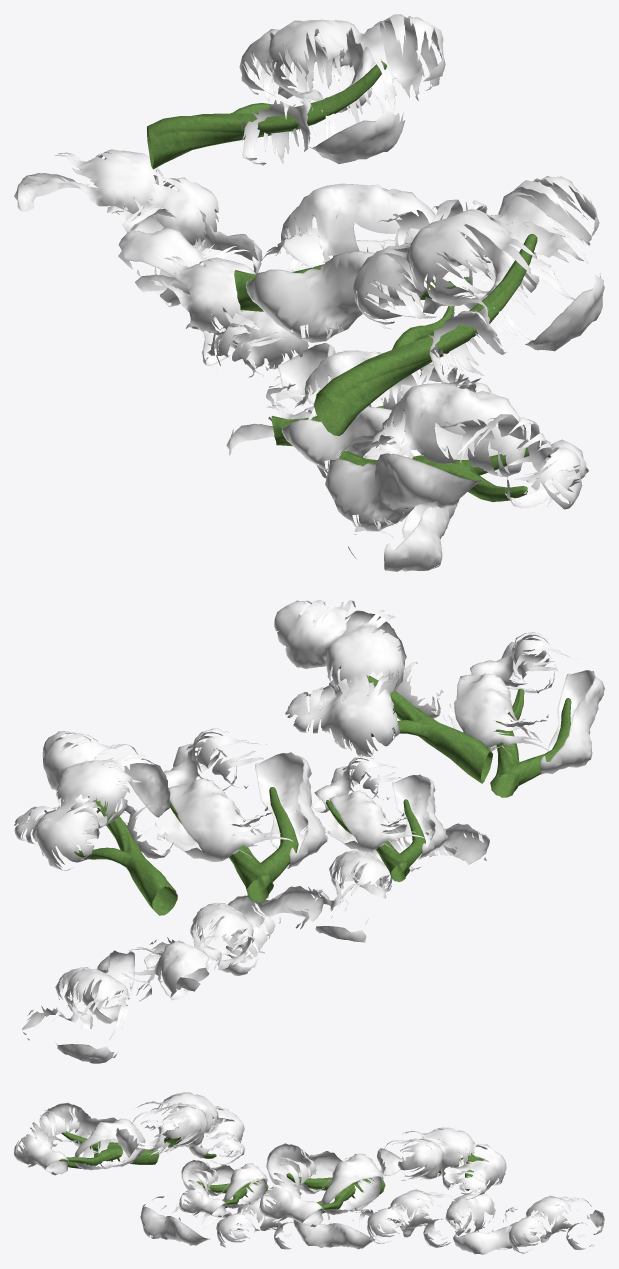
File: SM_ENV_KNFRST_DistanceLeaf_GroupB.FBX
3 renders of one model, top to bottom at view 1: azimuth 30°, elevation 25°; view 2: azimuth 150°, elevation 25°; view 3: azimuth 270°, elevation 25°, orthographic. The views are drawn at different scales.
Parts seen in each view (by area): view 1: SM_ENV_KNFRST_DistanceLeaf_GroupB; view 2: SM_ENV_KNFRST_DistanceLeaf_GroupB; view 3: SM_ENV_KNFRST_DistanceLeaf_GroupB.
Boxes of the visible parts, x1,y1,x2,y2 form: SM_ENV_KNFRST_DistanceLeaf_GroupB: (14, 14, 604, 571); SM_ENV_KNFRST_DistanceLeaf_GroupB: (14, 600, 604, 1063); SM_ENV_KNFRST_DistanceLeaf_GroupB: (14, 1092, 604, 1254).
Size of the model in its own units: 5175 by 3904 by 12361.
